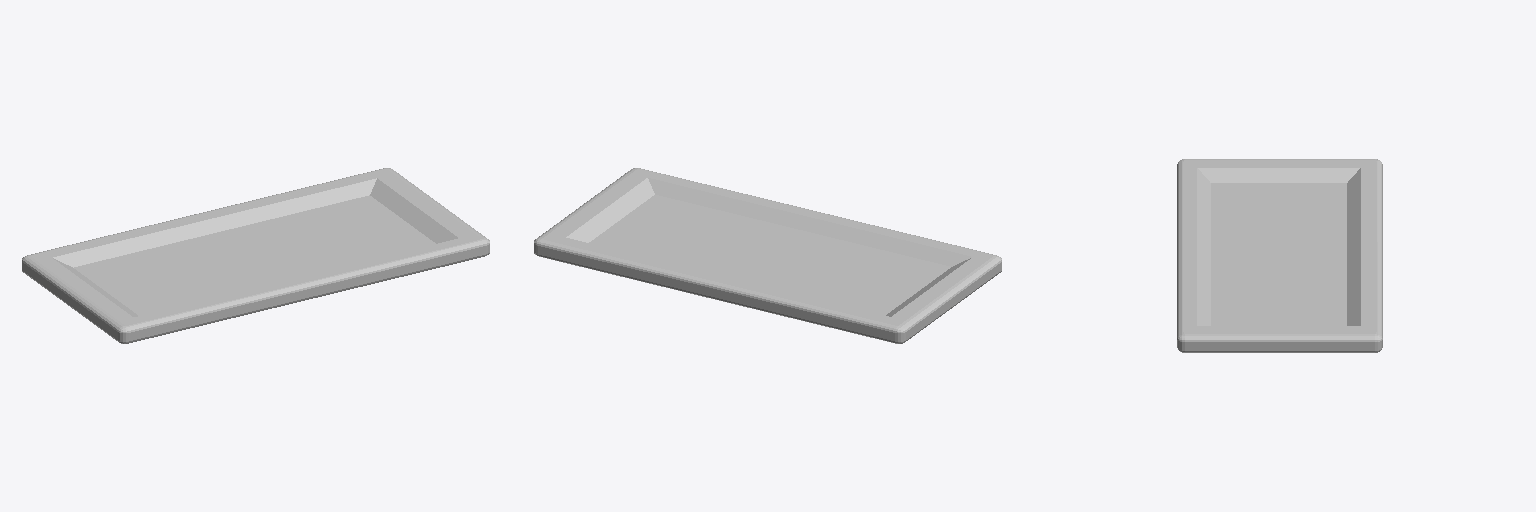
The model's file is Navigation Screen.obj.
The picture shows the model from 3 angles: view 1: azimuth 30°, elevation 25°; view 2: azimuth 150°, elevation 25°; view 3: azimuth 270°, elevation 25°; orthographic projection.
Visible parts, largest first — view 1: Navigation_Screen; view 2: Navigation_Screen; view 3: Navigation_Screen.
Boxes of the visible parts, x1,y1,x2,y2 form: Navigation_Screen: [22, 168, 489, 343]; Navigation_Screen: [534, 168, 1001, 343]; Navigation_Screen: [1177, 159, 1382, 352].
Size of the model in its own units: 15.94 by 0.707 by 7.64.